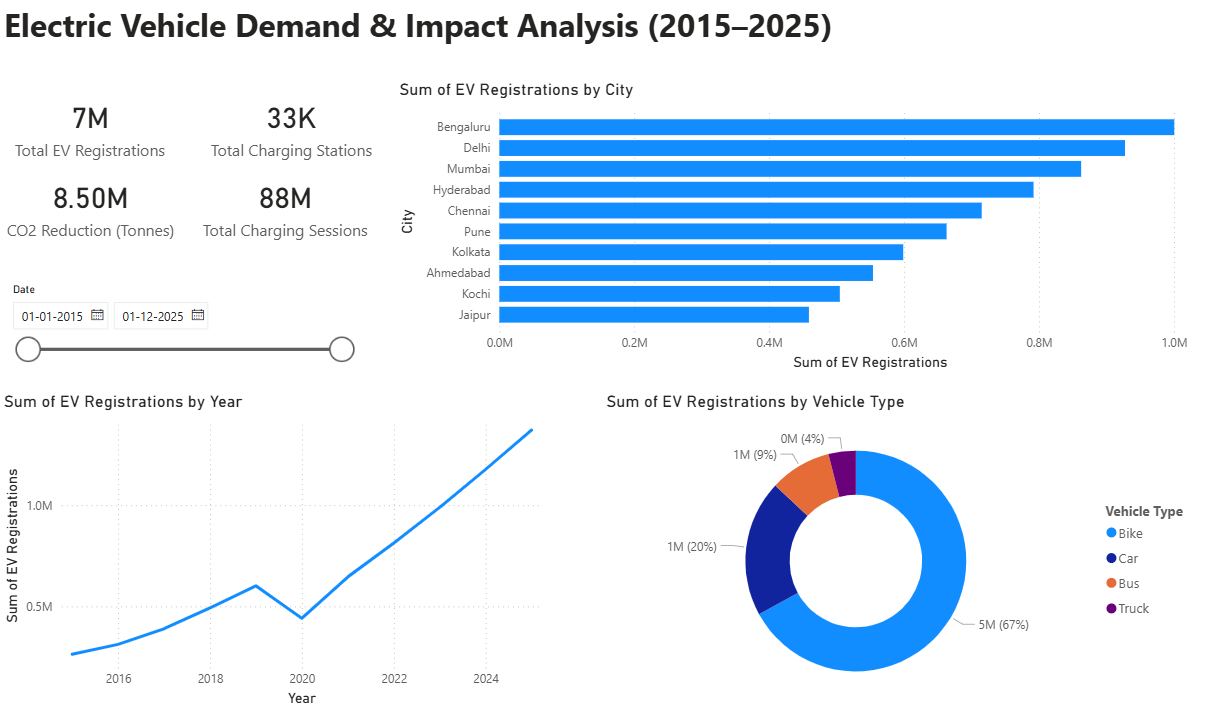

This screenshot's page, from the dashboard's own definition file:
{"tool":"powerbi","page":{"name":"Page 1","canvas":[1280,720],"ordinal":0},"visuals":[{"type":"card","fields":{"Values":["Sheet1.Total Charging Sessions"]},"box":[196.2,165,185,90],"z":0},{"type":"card","fields":{"Values":["Sheet1.Total EV Registrations"]},"box":[0,87.5,183.8,83.8],"z":1000},{"type":"card","fields":{"Values":["Sheet1.Total Charging Stations"]},"box":[196.2,87.5,197.5,83.8],"z":2000},{"type":"card","fields":{"Values":["Sheet1.Total CO2 Reduction"]},"box":[1.2,165,182.5,90],"z":3000},{"type":"lineChart","fields":{"Category":["Sheet1.Date.Variation.Date Hierarchy.Year"],"Y":["Sum(Sheet1.EV Registrations)"]},"box":[0,397.2,555.3,322.3],"z":4000},{"type":"donutChart","fields":{"Category":["Sheet1.Vehicle Type"],"Y":["Sum(Sheet1.EV Registrations)"]},"box":[607.2,397.2,608.4,322.3],"z":5000},{"type":"slicer","fields":{"Values":["Sheet1.Date"]},"box":[1.2,282.5,365.8,97.8],"z":6000},{"type":"clusteredBarChart","fields":{"Category":["Sheet1.City"],"Y":["Sum(Sheet1.EV Registrations)"]},"box":[398.4,82.1,881.2,298.2],"z":7000},{"type":"textbox","box":[0,0,911.4,54.3],"z":8000}]}

Visuals, with their boxes on the page's 1280x720 design canvas (x1, y1, x2, y2). These are canvas units, not pixel positions in the 1221x709 screenshot, which may show the page scaled, cropped or inside an application window:
card - Sheet1.Total Charging Sessions: (196,165,381,255)
card - Sheet1.Total EV Registrations: (0,88,184,171)
card - Sheet1.Total Charging Stations: (196,88,394,171)
card - Sheet1.Total CO2 Reduction: (1,165,184,255)
lineChart - Sheet1.Date.Variation.Date Hierarchy.Year x Sum(Sheet1.EV Registrations): (0,397,555,720)
donutChart - Sheet1.Vehicle Type x Sum(Sheet1.EV Registrations): (607,397,1216,720)
slicer - Sheet1.Date: (1,282,367,380)
clusteredBarChart - Sheet1.City x Sum(Sheet1.EV Registrations): (398,82,1280,380)
textbox: (0,0,911,54)
